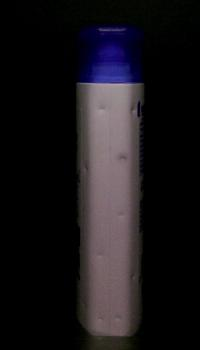dent_marginal: (108, 143, 134, 175), (93, 310, 126, 326), (77, 158, 98, 183), (124, 258, 140, 290), (125, 97, 135, 124)
